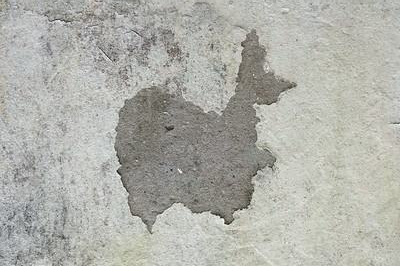Spalling: (114, 28, 298, 235)
